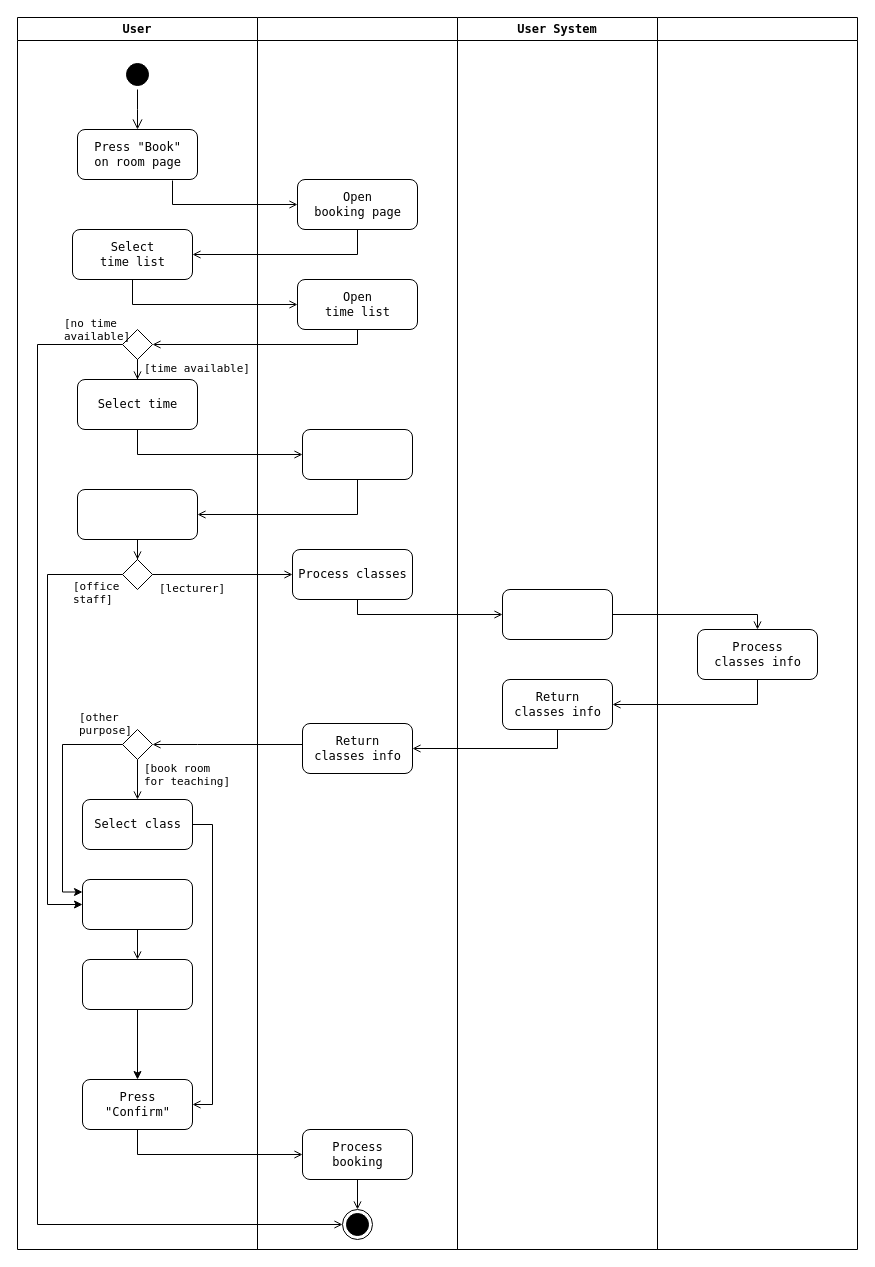
Image size: 875x1267. Some labels were removed from this diagram. The box of each missing label's shape, as (x1, y1, x2, y2) in pixels:
Database: (656, 16, 858, 1250)
Enter description: (82, 958, 192, 1010)
Process time: (302, 428, 412, 480)
Process user info: (502, 588, 612, 640)
SCAMS: (256, 16, 458, 1250)
Select "Other": (82, 878, 192, 930)
Select purposes: (76, 488, 198, 540)
